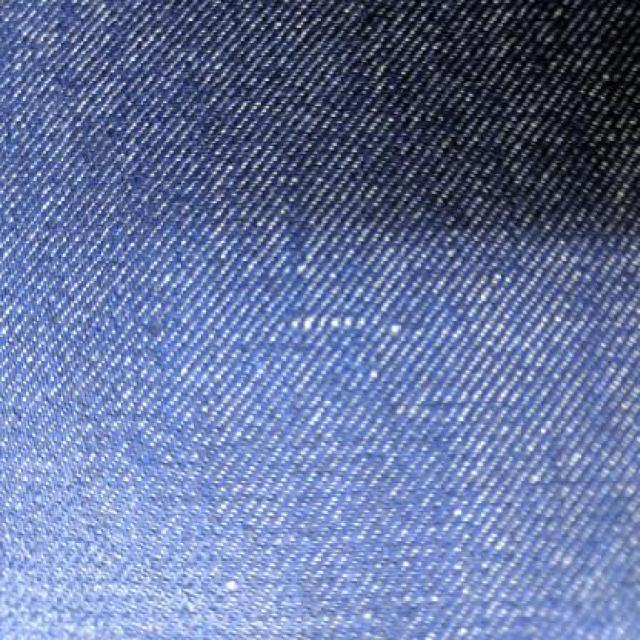pulled_or_thick_thread: (291, 316, 401, 336)
